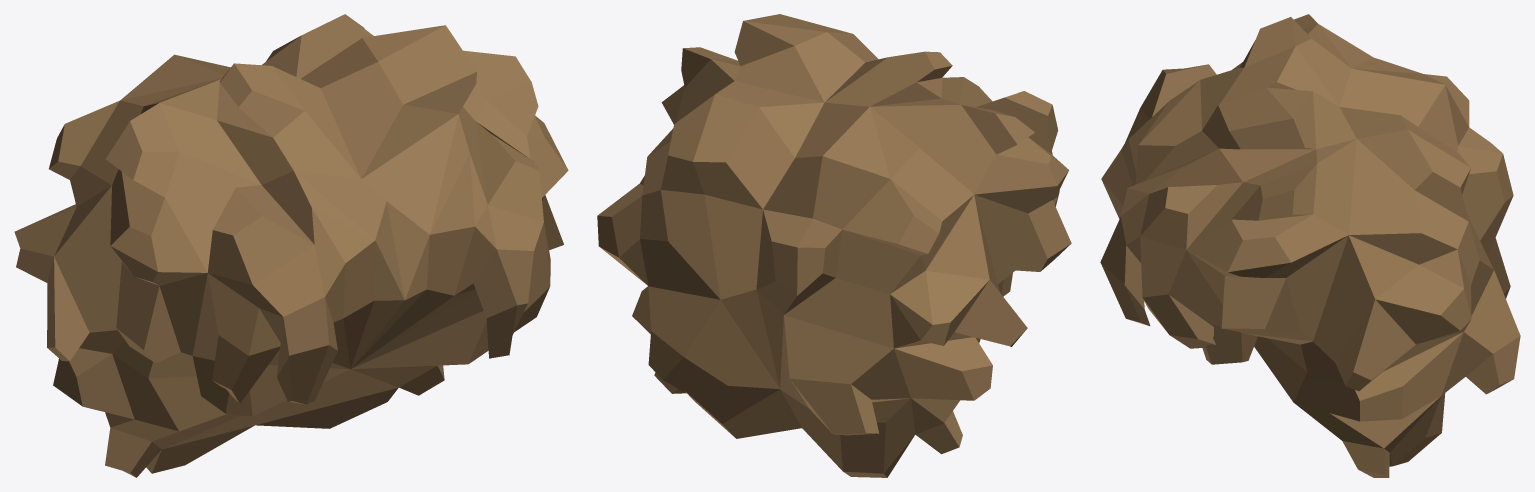
File: shops-messy-01.glb
The picture shows the model from 3 angles, left to right: view 1: azimuth 30°, elevation 25°; view 2: azimuth 150°, elevation 25°; view 3: azimuth 270°, elevation 25°; orthographic projection. The views are drawn at different scales.
Visible parts, largest first — view 1: shops-messy-01; view 2: shops-messy-01; view 3: shops-messy-01.
Part boxes in pixels (x1=…): shops-messy-01: x1=14, y1=14, x2=568, y2=477; shops-messy-01: x1=597, y1=14, x2=1071, y2=477; shops-messy-01: x1=1100, y1=14, x2=1520, y2=477.
Size of the model in its own units: 0.349 by 0.3301 by 0.3213.
